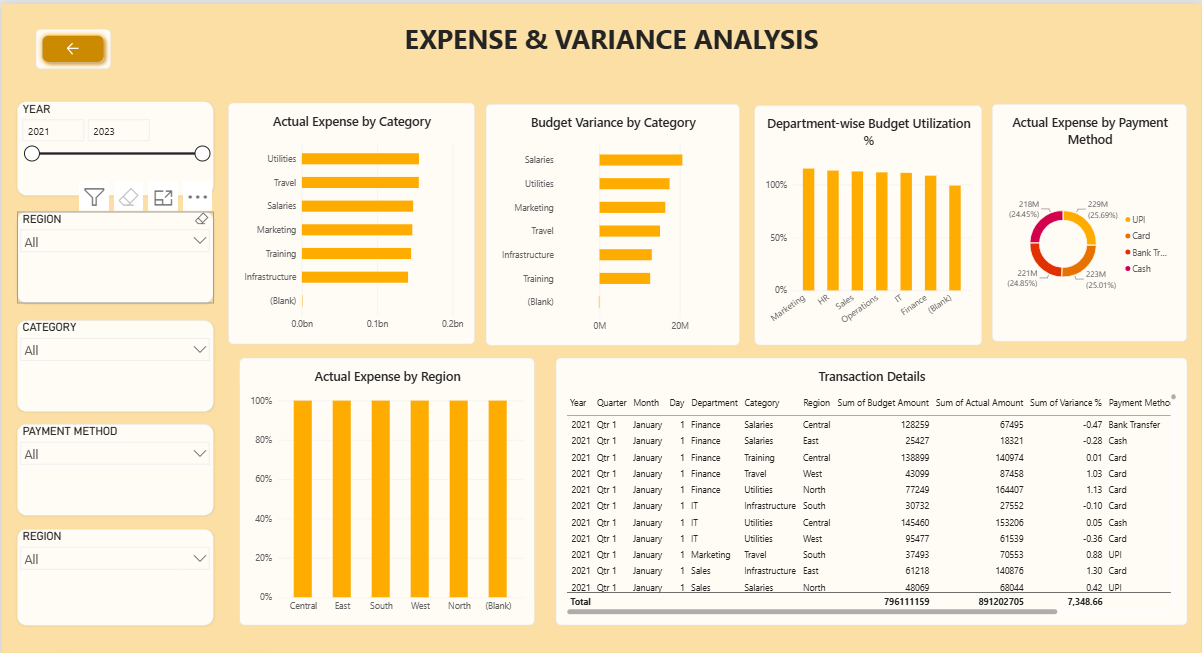

This screenshot's page, from the dashboard's own definition file:
{"tool":"powerbi","page":{"name":"Expense & Variance Analysis","canvas":[1920,1080],"ordinal":1},"visuals":[{"type":"clusteredBarChart","title":"Actual Expense by Category","fields":{"Category":["Sheet1.Category"],"Y":["Sum(Sheet1.Actual Amount)"]},"box":[362,158,394,386],"z":4000},{"type":"clusteredBarChart","title":"Budget Variance by Category","fields":{"Category":["Sheet1.Category"],"Y":["Sum(Sheet1.Variance)"]},"box":[774,160,406,386],"z":5000},{"type":"clusteredColumnChart","title":"Department-wise Budget Utilization %","fields":{"Category":["Sheet1.Department"],"Y":["Sheet1.Budget Utilization %"]},"box":[1204,162,364,384],"z":6000},{"type":"donutChart","title":"Actual Expense by Payment Method","fields":{"Category":["Sheet1.Payment Method"],"Y":["Sum(Sheet1.Actual Amount)"]},"box":[1584,160,312,380],"z":7000},{"type":"hundredPercentStackedColumnChart","title":"Actual Expense by Region","fields":{"Category":["Sheet1.Region"],"Y":["Sum(Sheet1.Actual Amount)"]},"box":[380,566,472,428],"z":8000},{"type":"tableEx","title":"Transaction Details","fields":{"Values":["Sheet1.Date.Variation.Date Hierarchy.Year","Sheet1.Date.Variation.Date Hierarchy.Quarter","Sheet1.Date.Variation.Date Hierarchy.Month","Sheet1.Date.Variation.Date Hierarchy.Day","Sheet1.Department","Sheet1.Category","Sheet1.Region","Sum(Sheet1.Budget Amount)","Sum(Sheet1.Actual Amount)","Sum(Sheet1.Variance %)","Sheet1.Payment Method","Sheet1.Transaction ID"]},"box":[886,566,1010,428],"z":9000},{"type":"slicer","fields":{"Values":["Sheet1.Year"]},"box":[24,156,314,150],"z":10000},{"type":"slicer","fields":{"Values":["Sheet1.Region"]},"box":[24,332,314,146],"z":11000},{"type":"slicer","fields":{"Values":["Sheet1.Category"]},"box":[24,506,314,146],"z":12000},{"type":"slicer","fields":{"Values":["Sheet1.Payment Method"]},"box":[24,672,314,146],"z":13000},{"type":"slicer","fields":{"Values":["Sheet1.Region"]},"box":[24,840,314,154],"z":14000},{"type":"textbox","box":[54,26,1842,90],"z":14001},{"type":"actionButton","box":[54,40,120,64],"z":14002}]}

Visuals, with their boxes on the page's 1920x1080 design canvas (x1, y1, x2, y2). These are canvas units, not pixel positions in the 1202x653 screenshot, which may show the page scaled, cropped or inside an application window:
"Actual Expense by Category" clusteredBarChart: <bbox>362, 158, 756, 544</bbox>
"Budget Variance by Category" clusteredBarChart: <bbox>774, 160, 1180, 546</bbox>
"Department-wise Budget Utilization %" clusteredColumnChart: <bbox>1204, 162, 1568, 546</bbox>
"Actual Expense by Payment Method" donutChart: <bbox>1584, 160, 1896, 540</bbox>
"Actual Expense by Region" hundredPercentStackedColumnChart: <bbox>380, 566, 852, 994</bbox>
"Transaction Details" tableEx: <bbox>886, 566, 1896, 994</bbox>
slicer - Sheet1.Year: <bbox>24, 156, 338, 306</bbox>
slicer - Sheet1.Region: <bbox>24, 332, 338, 478</bbox>
slicer - Sheet1.Category: <bbox>24, 506, 338, 652</bbox>
slicer - Sheet1.Payment Method: <bbox>24, 672, 338, 818</bbox>
slicer - Sheet1.Region: <bbox>24, 840, 338, 994</bbox>
textbox: <bbox>54, 26, 1896, 116</bbox>
actionButton: <bbox>54, 40, 174, 104</bbox>
